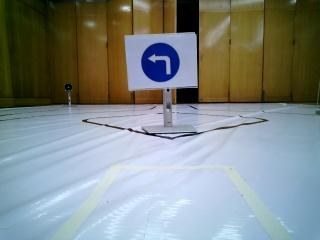left: (127, 34, 201, 84)
